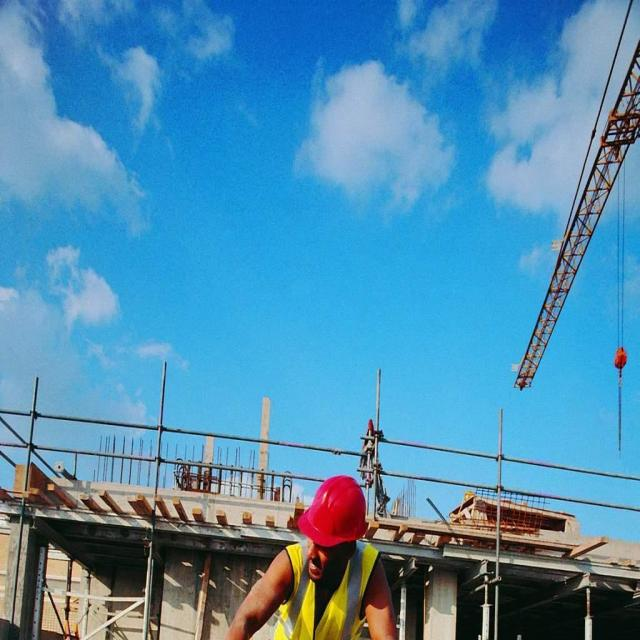Reflective-Jacket: (268, 541, 380, 640)
Safety-Helmet: (297, 470, 371, 548)
